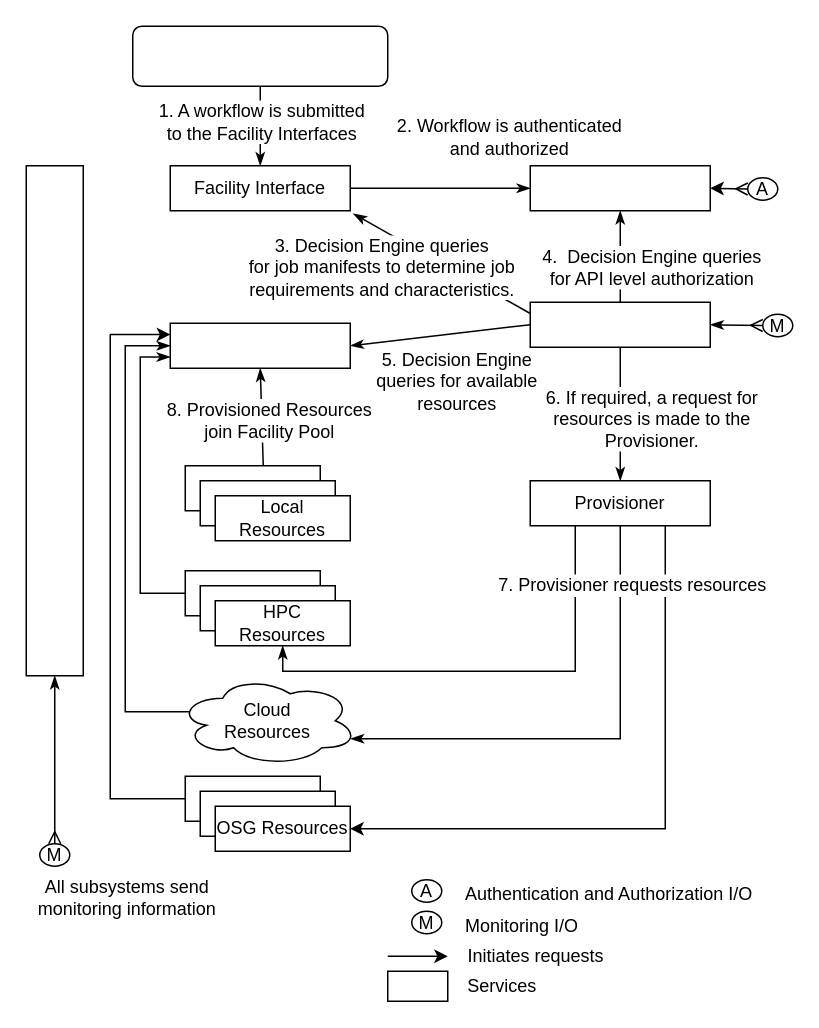
The diagram is 819 pixels wide and 1028 high, and some of its shapes have lost their labels. Here are the shapes that lost their labels. From the top down, the box of each, then its label:
(131, 25, 388, 86): Workflow (resource provisioning trigger)
(529, 164, 710, 211): Authentication and Authorization
(529, 301, 710, 347): Decision Engine
(169, 322, 350, 368): Facility Pool
(25, 164, 83, 676): Monitoring
